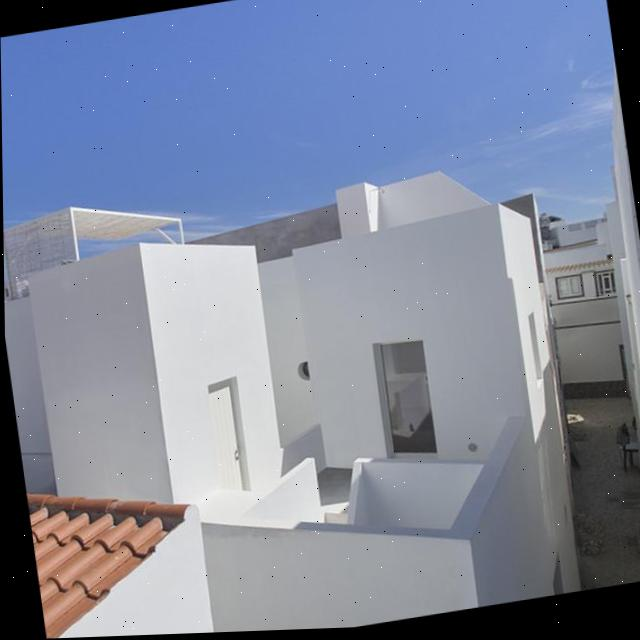building: (2, 141, 587, 640), (537, 207, 636, 399)
